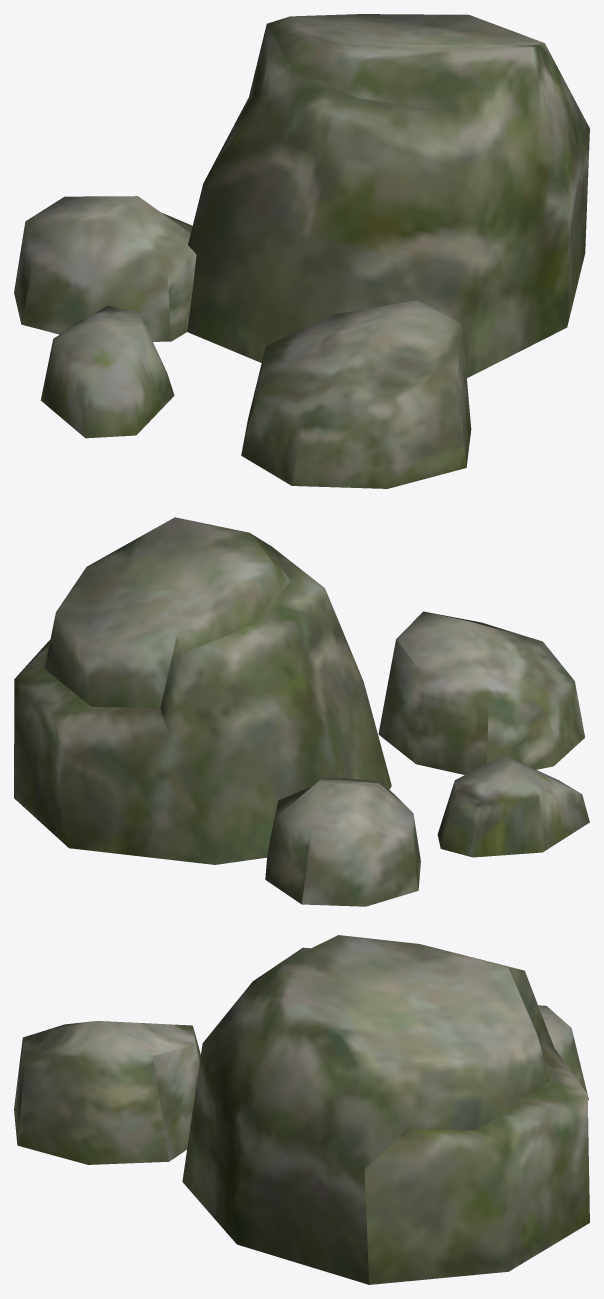
The model's file is BattleField_V4_100204_shitou01.FBX.
The picture shows the model from 3 angles, top to bottom: view 1: azimuth 30°, elevation 25°; view 2: azimuth 150°, elevation 25°; view 3: azimuth 270°, elevation 25°; orthographic projection. The views are drawn at different scales.
Parts seen in each view (by area): view 1: Object002; view 2: Object002; view 3: Object002.
Part boxes in pixels (x1,y1,x2,y2): Object002: [14, 14, 589, 488]; Object002: [14, 517, 589, 906]; Object002: [14, 935, 589, 1284].
Size of the model in its own units: 26.02 by 11.49 by 24.75.
